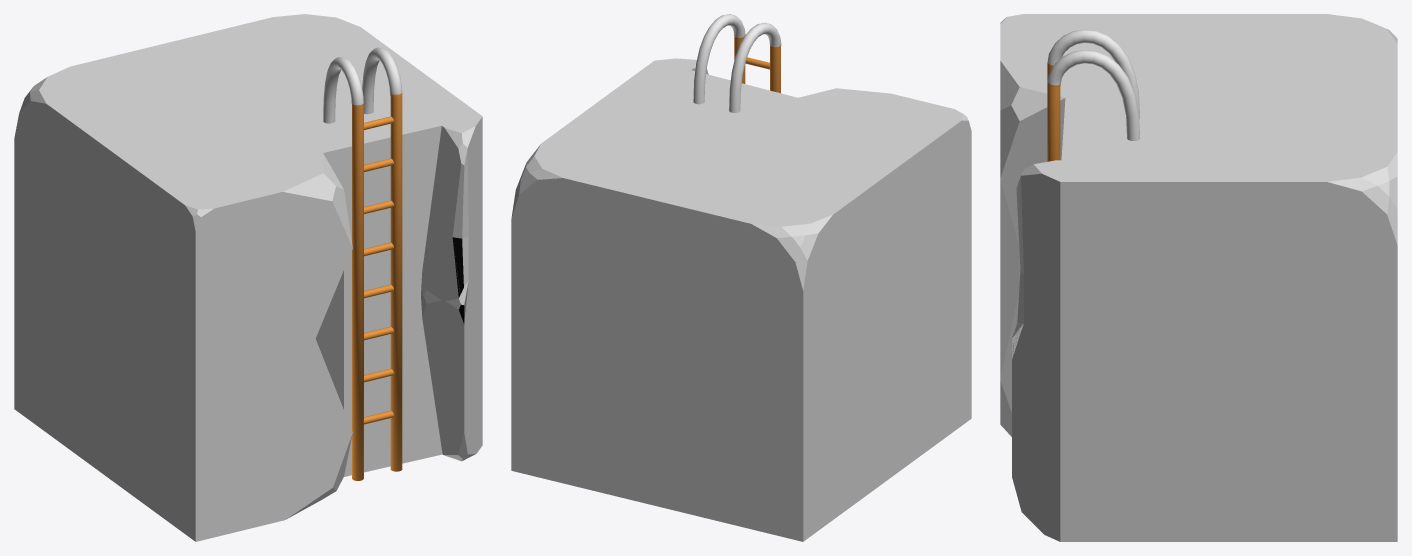
File: tile-leaderEnd.glb
The picture shows the model from 3 angles, left to right: view 1: azimuth 30°, elevation 25°; view 2: azimuth 150°, elevation 25°; view 3: azimuth 270°, elevation 25°; orthographic projection. The views are drawn at different scales.
Visible parts, largest first — view 1: Cube.010, Cylinder.007, Cylinder.008; view 2: Cube.010, Cylinder.007; view 3: Cube.010, Cylinder.007.
Part boxes in pixels (x1,y1,x2,y2): Cube.010: [14, 14, 482, 541]; Cylinder.007: [323, 47, 402, 480]; Cylinder.008: [364, 116, 393, 424]; Cube.010: [511, 58, 971, 541]; Cylinder.007: [693, 14, 781, 112]; Cube.010: [1000, 14, 1397, 541]; Cylinder.007: [1047, 29, 1140, 161].
Bounding box in the file's own units: 1 × 1.24 × 1.
3 materials, 1 textured.
